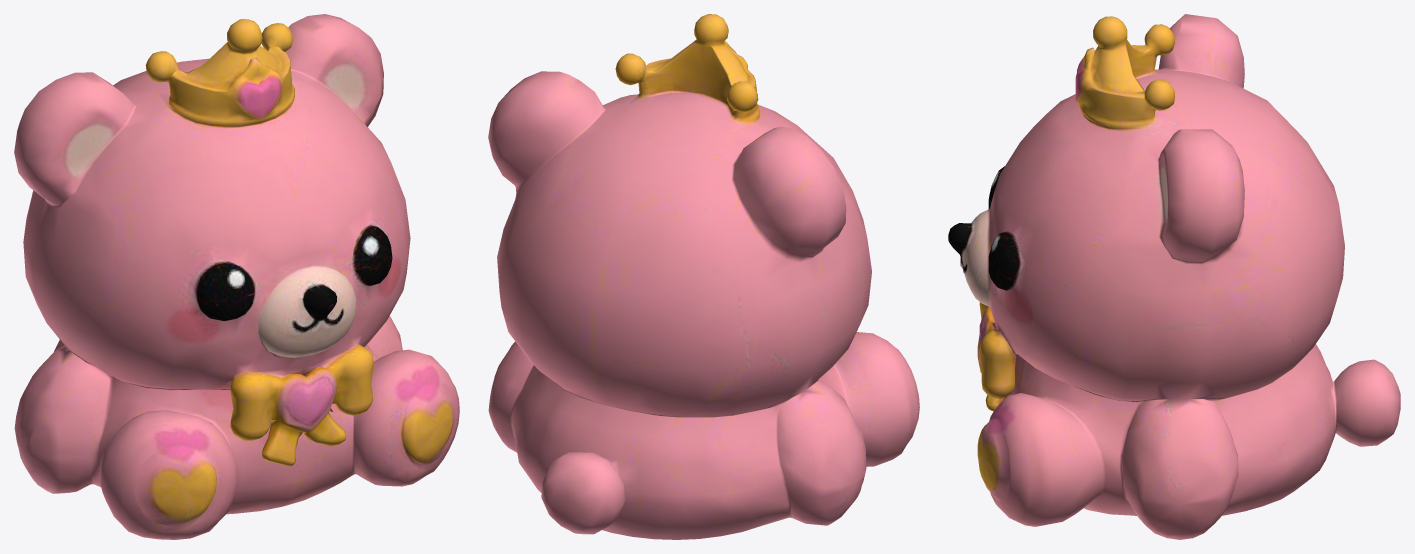
3 views of the same model, side by side, from view 1: azimuth 30°, elevation 25°; view 2: azimuth 150°, elevation 25°; view 3: azimuth 270°, elevation 25° (orthographic). The views are drawn at different scales.
Size of the model in its own units: 1.61 by 1.91 by 1.75.
1 material, 1 textured.
